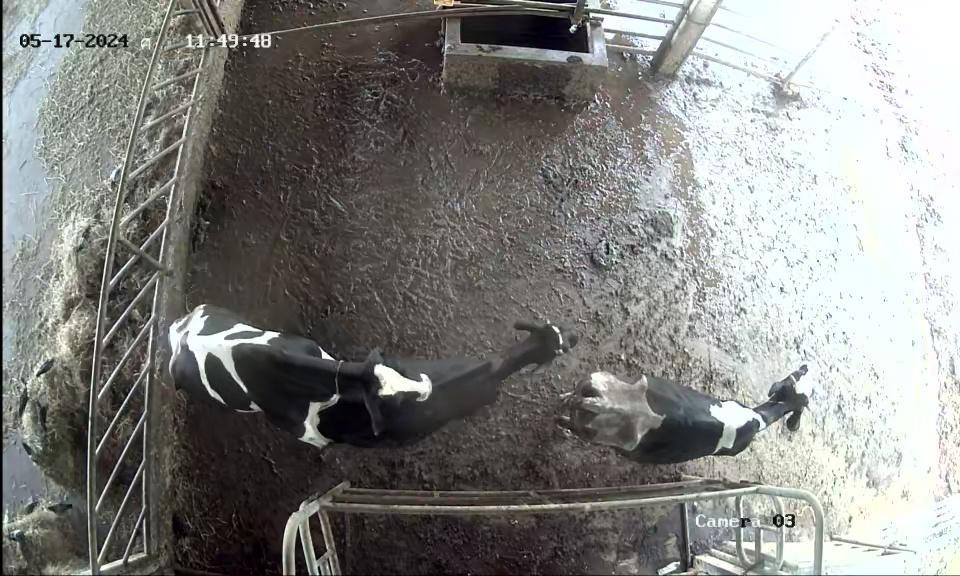ride: (157, 293, 437, 464)
stand: (326, 296, 576, 462), (568, 347, 828, 477)
